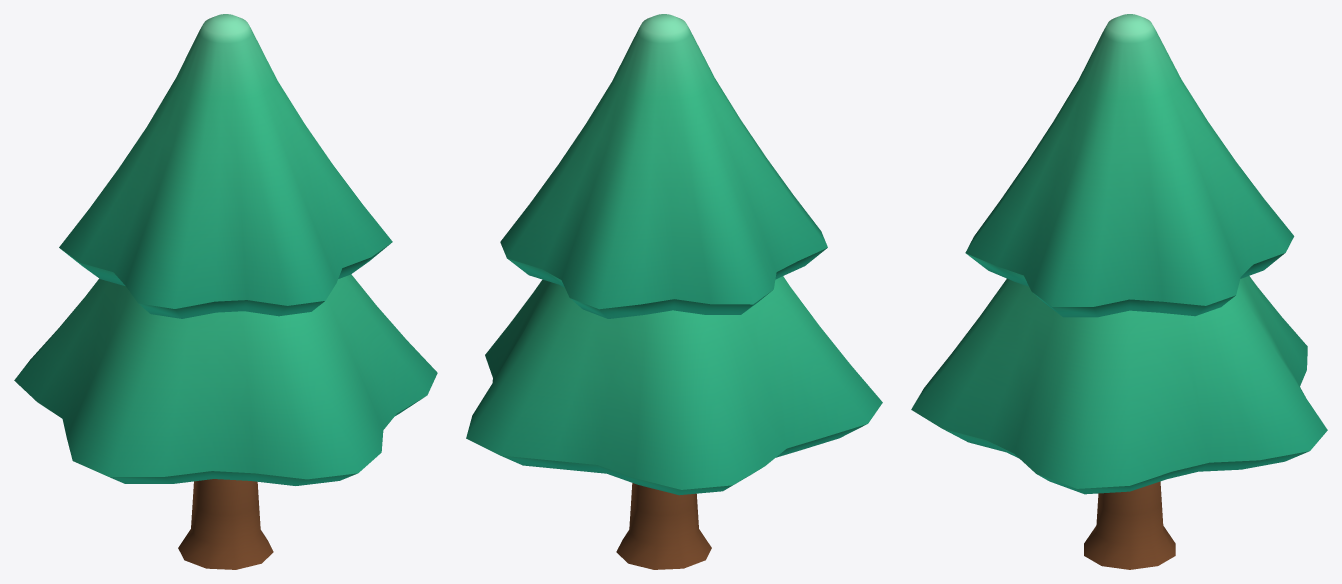
The model's file is pine_duo.glb.
3 renders of one model, left to right at view 1: azimuth 30°, elevation 25°; view 2: azimuth 150°, elevation 25°; view 3: azimuth 270°, elevation 25°, orthographic.
Parts seen in each view (by area): view 1: pine_duo; view 2: pine_duo; view 3: pine_duo.
Boxes of the visible parts, x1=… form: pine_duo: x1=14, y1=14, x2=437, y2=569; pine_duo: x1=466, y1=14, x2=882, y2=569; pine_duo: x1=911, y1=14, x2=1327, y2=569.
Size of the model in its own units: 14.2 by 19.8 by 14.09.
1 material, 1 textured.
